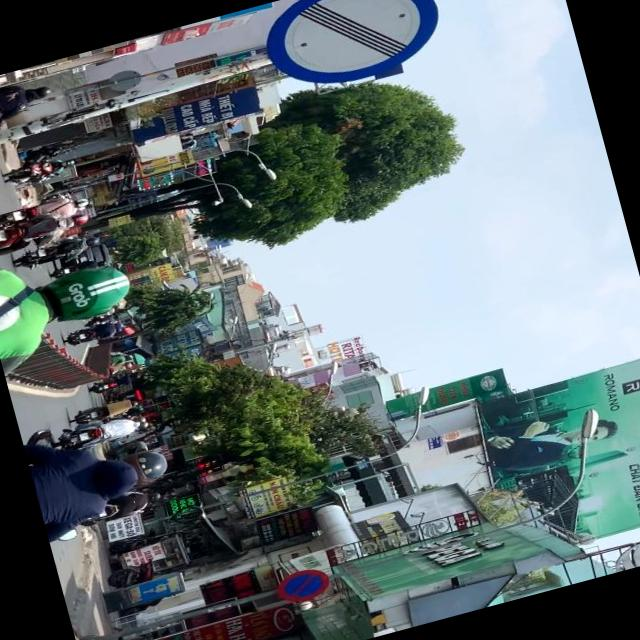DP-135: (254, 0, 450, 100)
P-131a: (274, 566, 330, 608)
